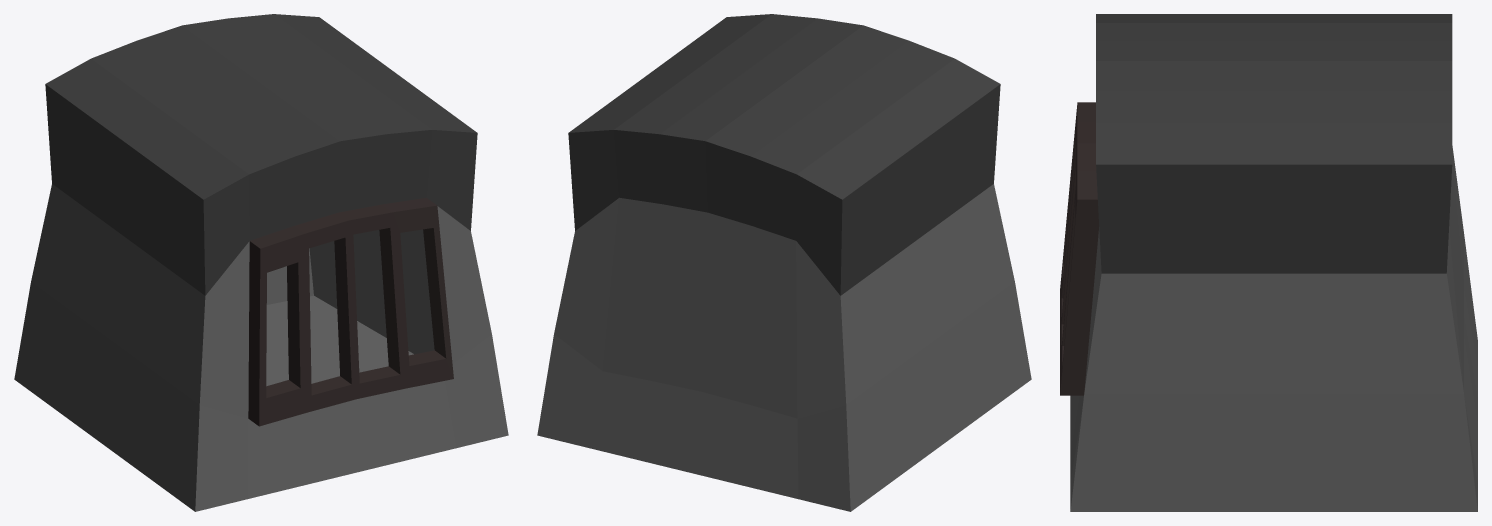
File: Oven.fbx
3 views of the same model, side by side, from view 1: azimuth 30°, elevation 25°; view 2: azimuth 150°, elevation 25°; view 3: azimuth 270°, elevation 25° (orthographic). The views are drawn at different scales.
Parts seen in each view (by area): view 1: Oven, Door; view 2: Oven; view 3: Oven, Door.
Part boxes in pixels (x1,y1,x2,y2): Oven: [14, 14, 508, 511]; Door: [248, 197, 453, 426]; Oven: [537, 14, 1031, 511]; Oven: [1070, 14, 1477, 511]; Door: [1060, 102, 1099, 395].
Size of the model in its own units: 1.78 by 1.76 by 1.83.
1 material, 1 textured.
